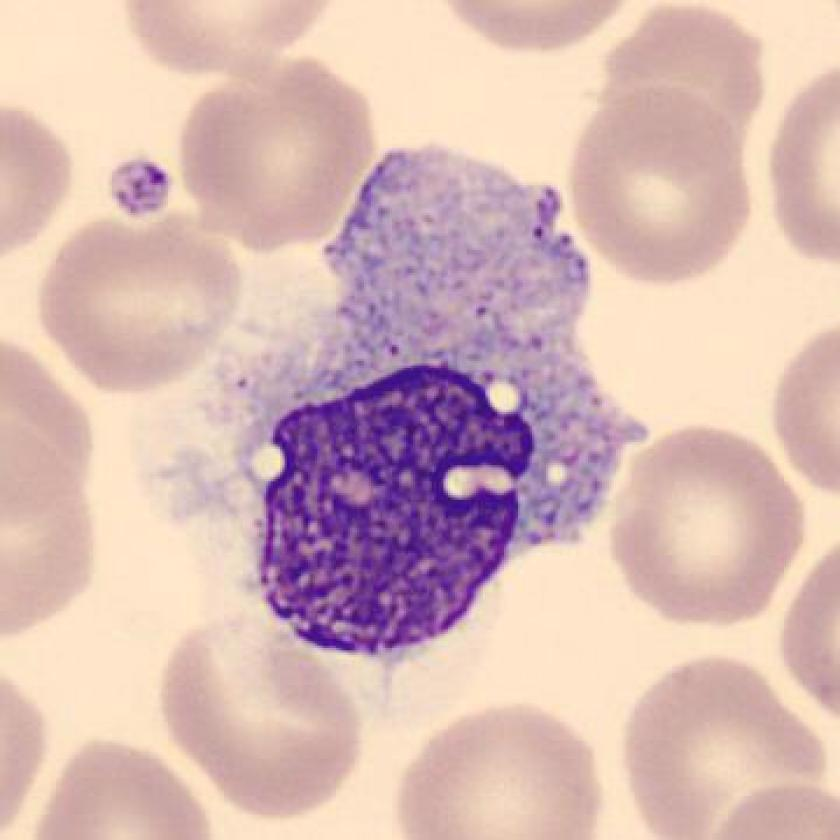monocyte: (129, 126, 671, 684)
